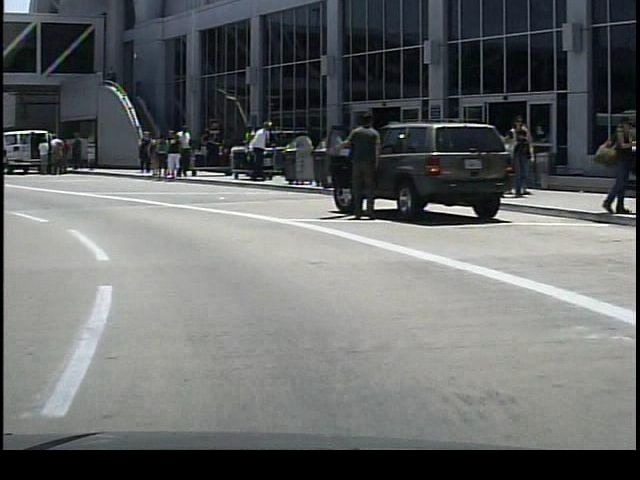person: (335, 109, 382, 222), (586, 111, 631, 219), (502, 110, 538, 206), (245, 116, 272, 184), (161, 130, 182, 180), (65, 129, 87, 176), (175, 123, 192, 180), (133, 128, 153, 173), (47, 131, 65, 177), (34, 136, 53, 177)
